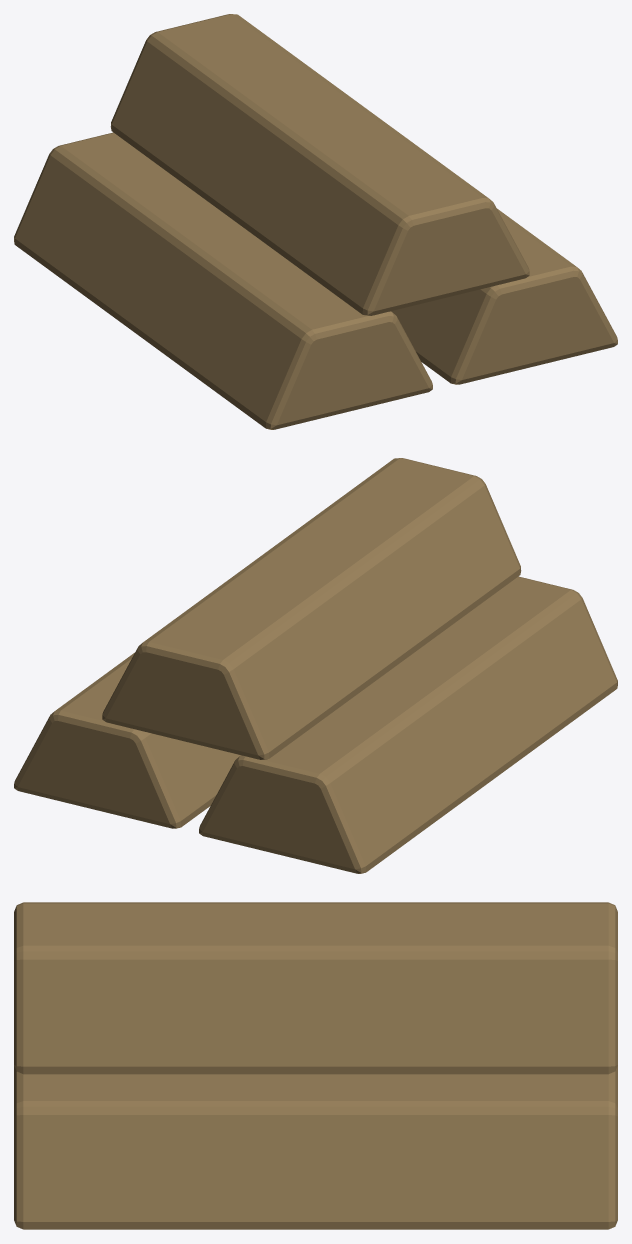
Rendered from Ingots.fbx.
3 renders of one model, top to bottom at view 1: azimuth 30°, elevation 25°; view 2: azimuth 150°, elevation 25°; view 3: azimuth 270°, elevation 25°, orthographic. The views are drawn at different scales.
Parts seen in each view (by area): view 1: Cube; view 2: Cube; view 3: Cube.
Part boxes in pixels (x1,y1,x2,y2): Cube: [14, 14, 617, 429]; Cube: [14, 458, 617, 873]; Cube: [14, 902, 617, 1229].
Bounding box in the file's own units: 0.783 × 0.3844 × 1.
